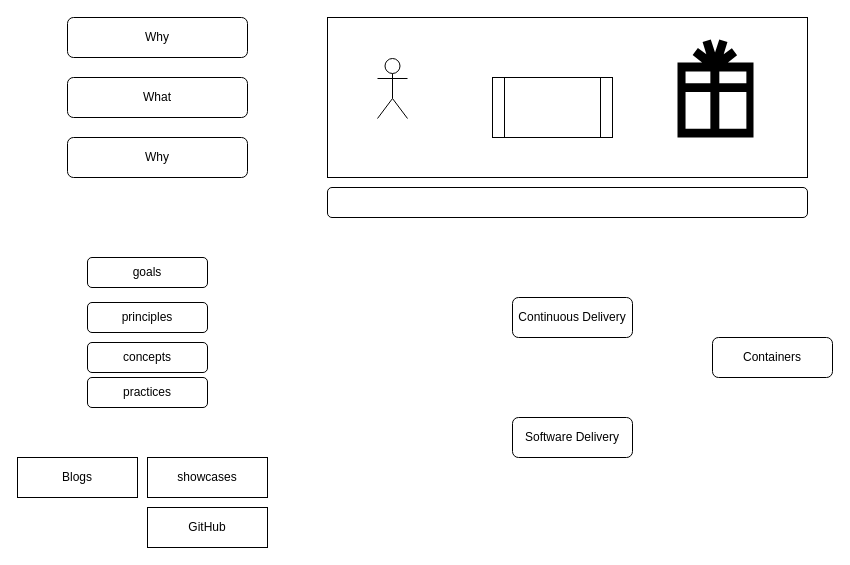
The diagram is 850 pixels wide and 565 high, and some of its shapes have lost their labels. The shapes that lost their labels are listed below. From the top down, each one's centre as x and y in pixels, then its label:
At point (392, 88): "Actor".
At point (567, 202): "Continuous Everything".
